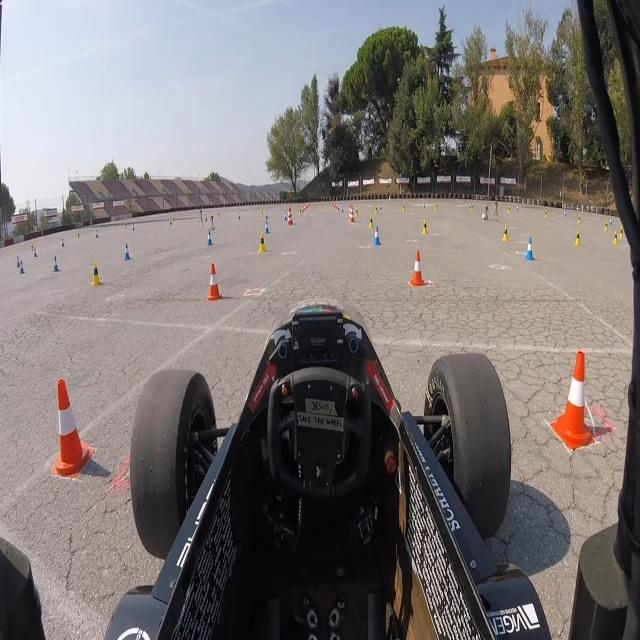blue_cone: (525, 237, 535, 260), (374, 226, 381, 246), (125, 242, 131, 262), (19, 260, 26, 276), (53, 255, 59, 273), (207, 229, 213, 246), (16, 257, 21, 269), (265, 222, 269, 234), (33, 248, 37, 260), (379, 202, 383, 212), (265, 210, 269, 220), (516, 204, 520, 213), (284, 212, 288, 220), (563, 210, 567, 217), (62, 239, 65, 248), (132, 223, 135, 231), (468, 202, 471, 210), (238, 212, 241, 219), (205, 214, 208, 221), (169, 218, 172, 225), (341, 205, 344, 212), (96, 229, 98, 238), (610, 218, 612, 226)
large_orange_cone: (349, 205, 355, 224), (289, 207, 294, 224), (348, 204, 352, 222), (287, 208, 291, 226)
orange_cone: (52, 374, 96, 480), (554, 352, 597, 449), (206, 262, 223, 302), (409, 246, 426, 285), (337, 204, 340, 212), (336, 203, 338, 210), (302, 206, 304, 213), (304, 205, 306, 212)
yellow_cone: (92, 262, 101, 286), (258, 232, 266, 252), (574, 228, 582, 246), (502, 224, 509, 241), (421, 220, 428, 234), (368, 216, 374, 230), (612, 230, 618, 244), (355, 208, 360, 218), (620, 227, 624, 239), (604, 221, 608, 233), (544, 209, 548, 219), (577, 215, 581, 224), (124, 222, 128, 230), (260, 209, 264, 217), (402, 204, 406, 212), (434, 204, 438, 212), (30, 244, 34, 252), (298, 208, 302, 215), (375, 204, 378, 213), (172, 216, 175, 224), (508, 206, 511, 214), (471, 203, 474, 211), (77, 233, 80, 239), (218, 212, 221, 218)
